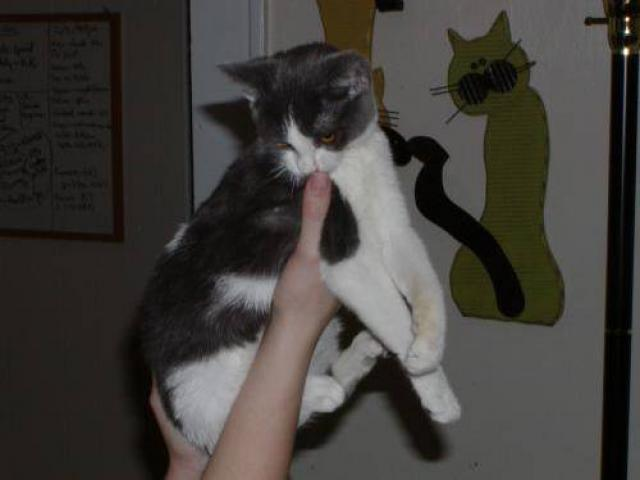cat: (145, 41, 509, 475)
